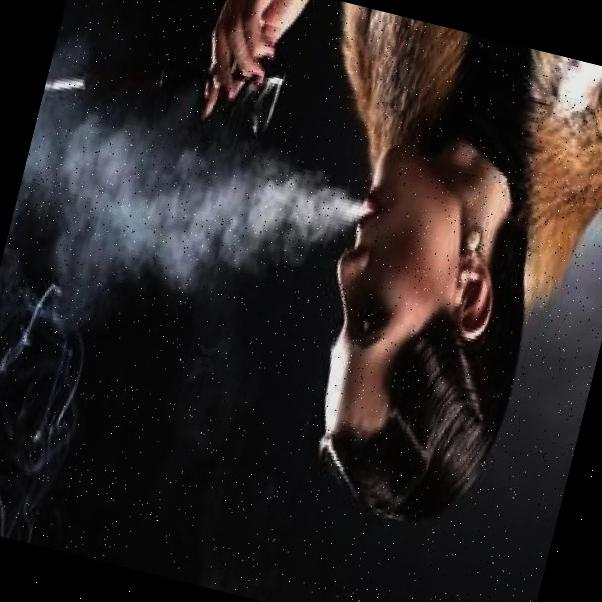smoke: (0, 67, 381, 389)
